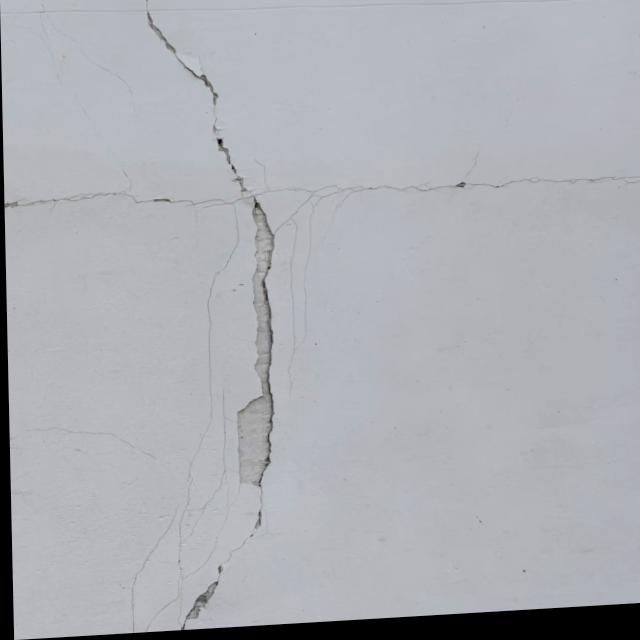crack: (12, 0, 634, 397), (221, 488, 268, 561)
spalling: (225, 199, 283, 489), (178, 561, 229, 622)
